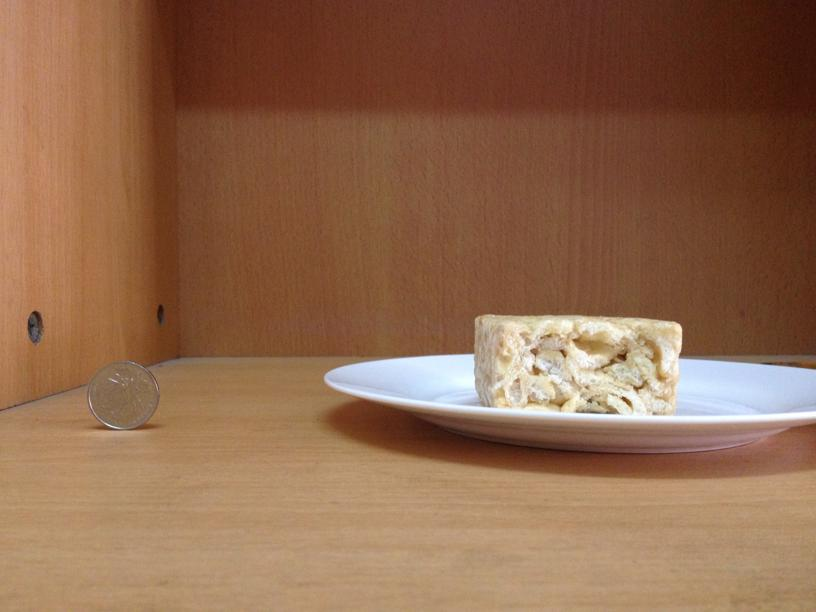coin: (88, 361, 160, 430)
sachima: (469, 311, 682, 418)
